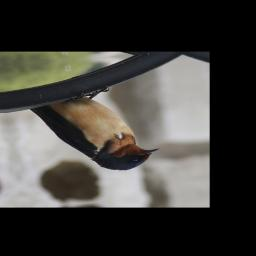Swallow: (23, 81, 164, 177)
